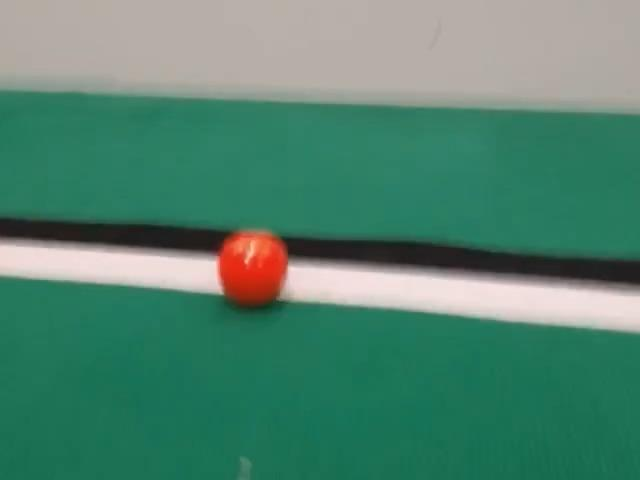Ball: (218, 231, 287, 306)
